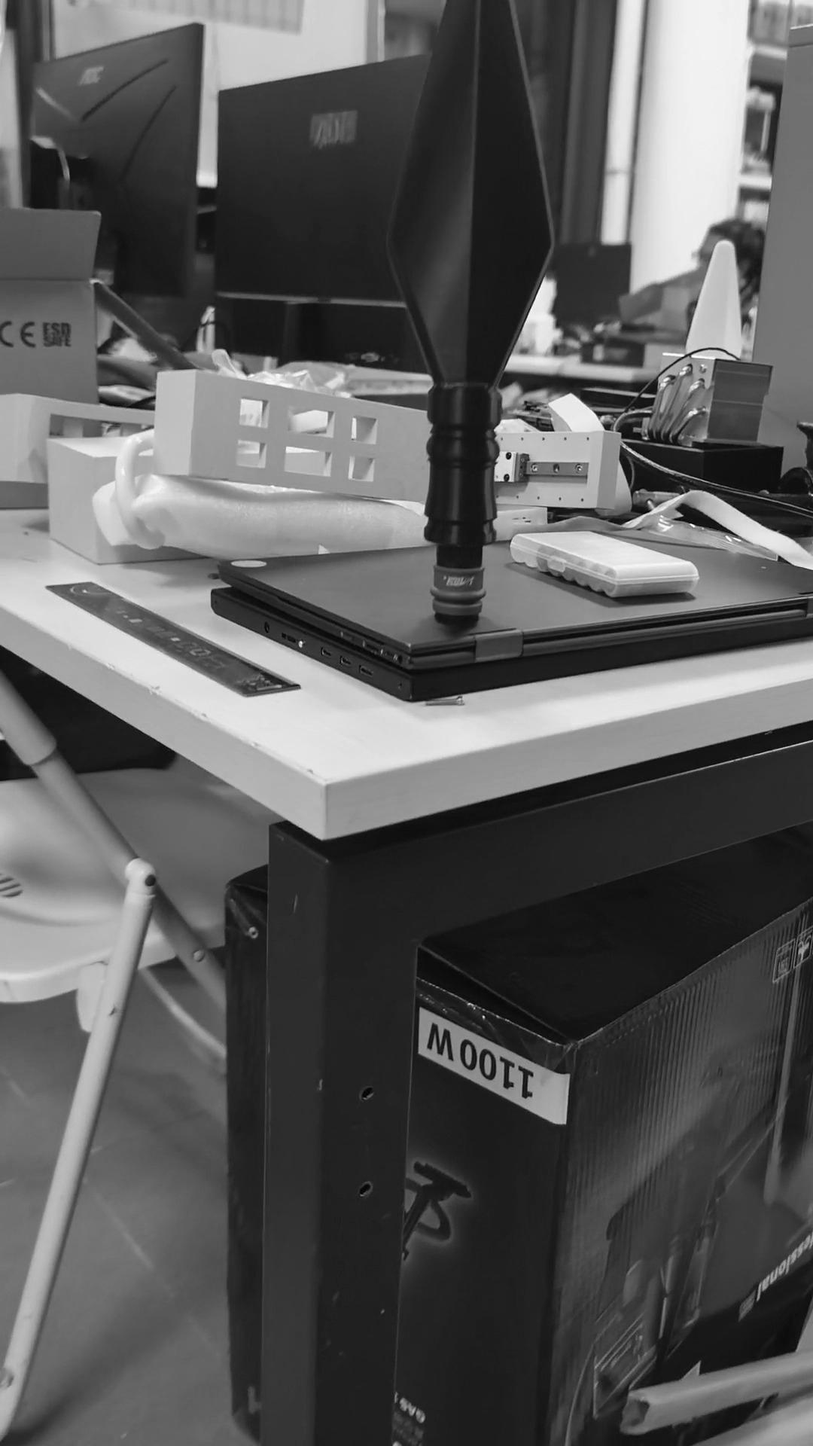base: (427, 560, 491, 629)
